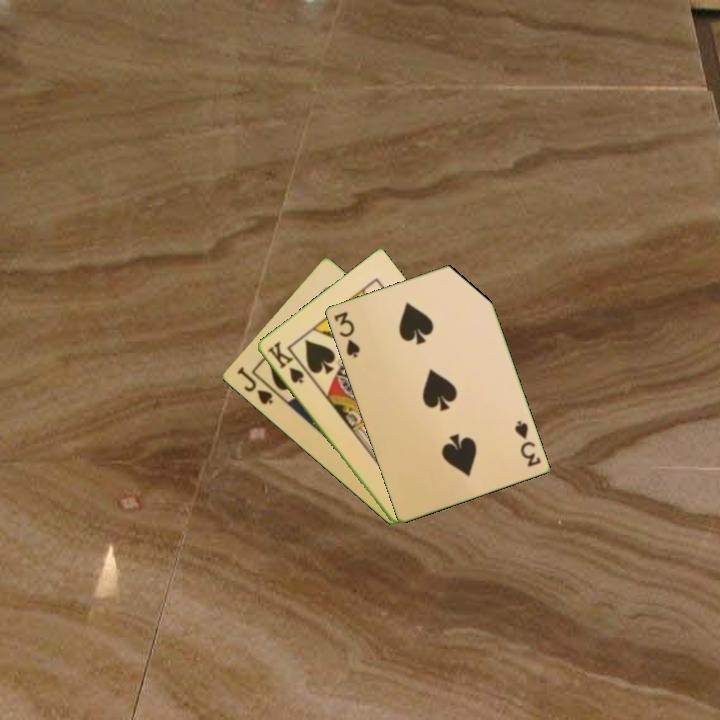3s: (511, 417, 543, 470), (330, 308, 362, 360)
Js: (233, 363, 276, 408)
Ks: (263, 338, 307, 387)
